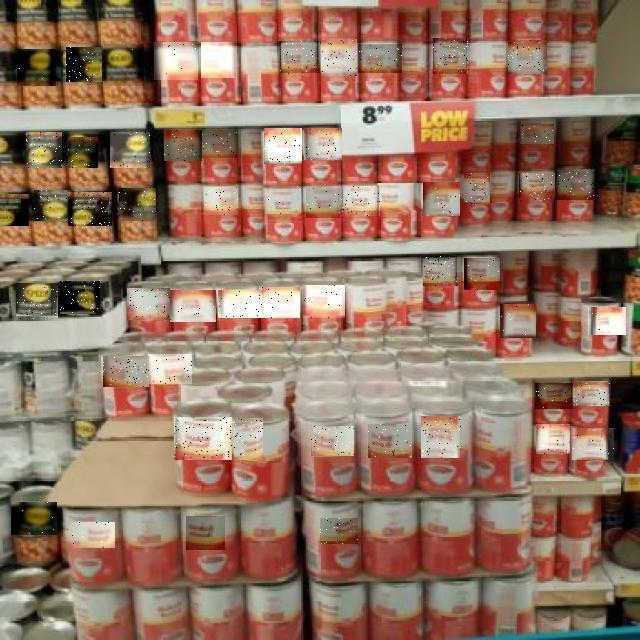Beans: (174, 417, 232, 460), (104, 45, 144, 87), (422, 417, 462, 459), (154, 42, 198, 80), (11, 502, 57, 535), (16, 284, 58, 320), (68, 192, 112, 226), (368, 424, 412, 458), (18, 49, 58, 86), (170, 290, 216, 322), (110, 132, 150, 168), (303, 286, 345, 320), (103, 356, 149, 387), (127, 288, 170, 320), (264, 128, 302, 164), (280, 42, 320, 76), (572, 428, 614, 460), (321, 39, 357, 76), (186, 516, 225, 550), (508, 40, 547, 74), (60, 281, 100, 314), (148, 354, 192, 384), (434, 38, 470, 74), (27, 132, 63, 168), (311, 426, 354, 456), (358, 44, 402, 73), (66, 47, 102, 82), (423, 182, 460, 216), (67, 523, 115, 549), (218, 290, 262, 318), (202, 42, 236, 78), (267, 186, 303, 220), (501, 304, 537, 338), (119, 188, 156, 221), (555, 171, 597, 200), (234, 418, 263, 460), (304, 128, 342, 160), (340, 186, 380, 216), (164, 130, 202, 161), (262, 287, 300, 318), (378, 184, 420, 212), (465, 258, 501, 290), (34, 190, 71, 221), (424, 256, 460, 286), (588, 307, 626, 335), (536, 383, 576, 409), (306, 188, 340, 218), (536, 424, 570, 454), (202, 130, 238, 158), (519, 174, 555, 202), (320, 519, 358, 545), (205, 187, 239, 215), (68, 137, 98, 168), (0, 194, 29, 226), (575, 382, 611, 406), (464, 173, 490, 204), (520, 124, 554, 144)
